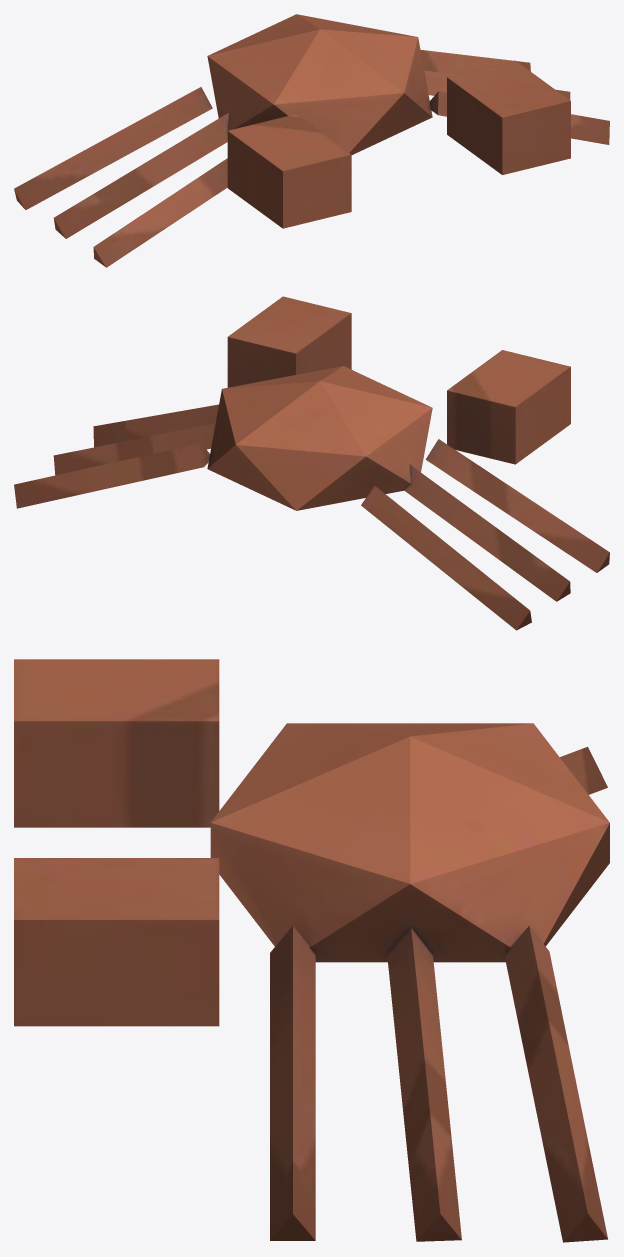
Rendered from life-crab.glb.
3 renders of one model, top to bottom at view 1: azimuth 30°, elevation 25°; view 2: azimuth 150°, elevation 25°; view 3: azimuth 270°, elevation 25°, orthographic. The views are drawn at different scales.
Visible parts, largest first — view 1: life-crab; view 2: life-crab; view 3: life-crab.
Boxes of the visible parts, left/top/right/bottom form: life-crab: left=14, top=14, right=609, bottom=267; life-crab: left=14, top=296, right=609, bottom=630; life-crab: left=14, top=659, right=609, bottom=1242.
Size of the model in its own units: 0.0753 by 0.0208 by 0.0406.
1 material, 1 textured.
